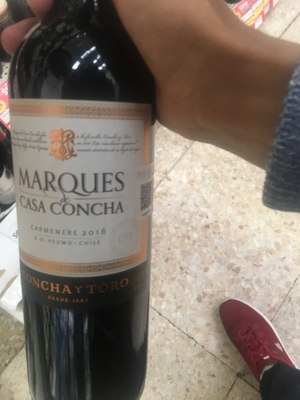marques de casa concha carmenere: (8, 44, 165, 400)
